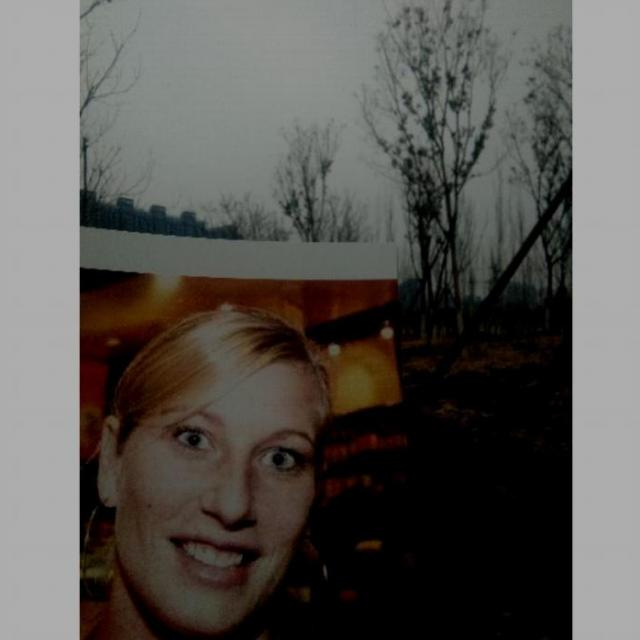photo: (80, 238, 410, 640)
